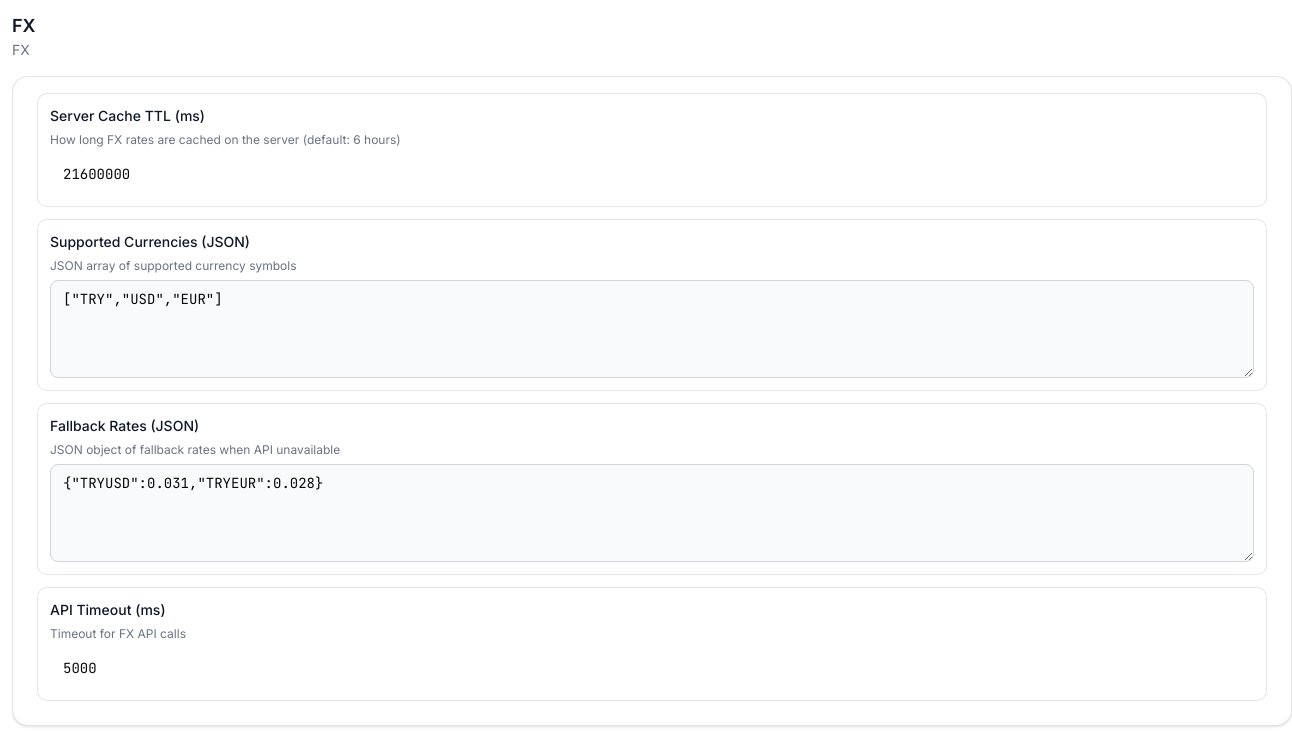
Test case: GenericSettingsPanel › JSON Validation › clears validation error on reset
Make invalid
Replace the text in the text box below "JSON array of supported currency symbols" with "[broken" at [652, 329], box [50,280,1254,378]
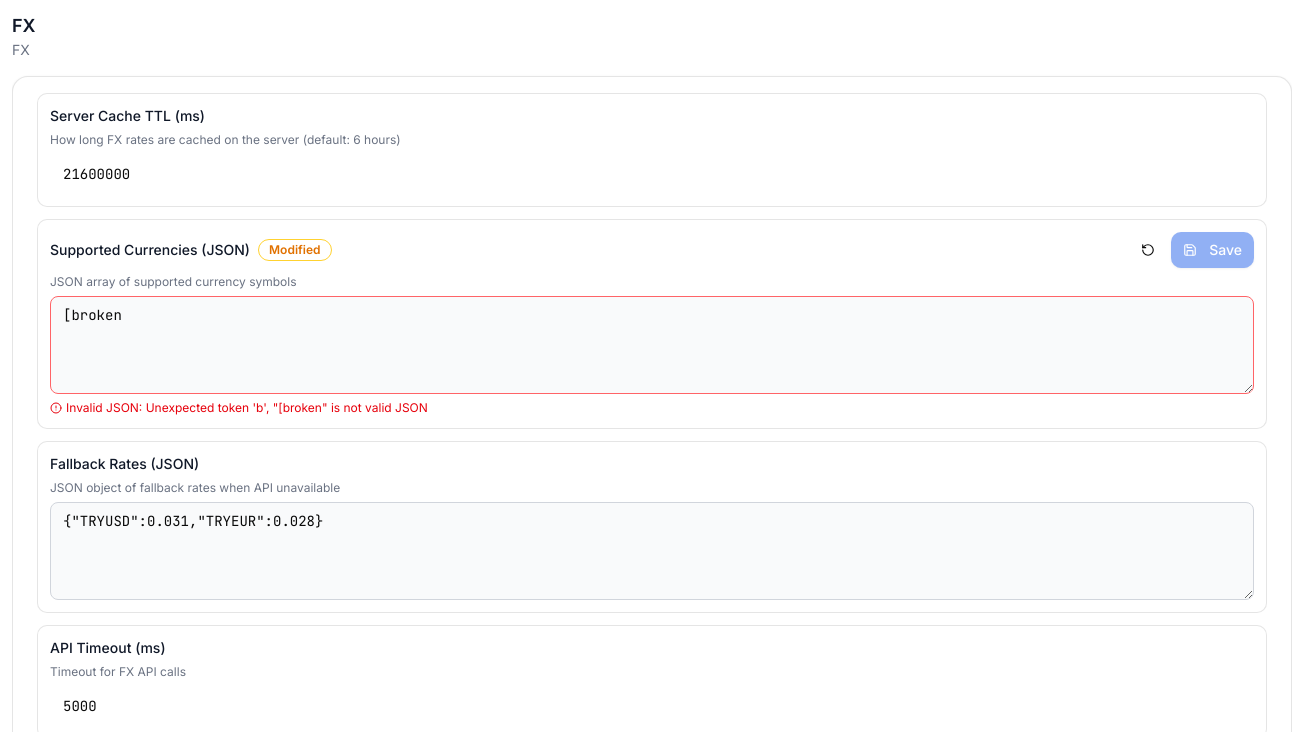
Expected: the text "Invalid JSON" is shown, [66,400,428,415]
Expected: the 1st button is shown
Click the 1st button.
click(1148, 250)  # box [1129,232,1167,268]
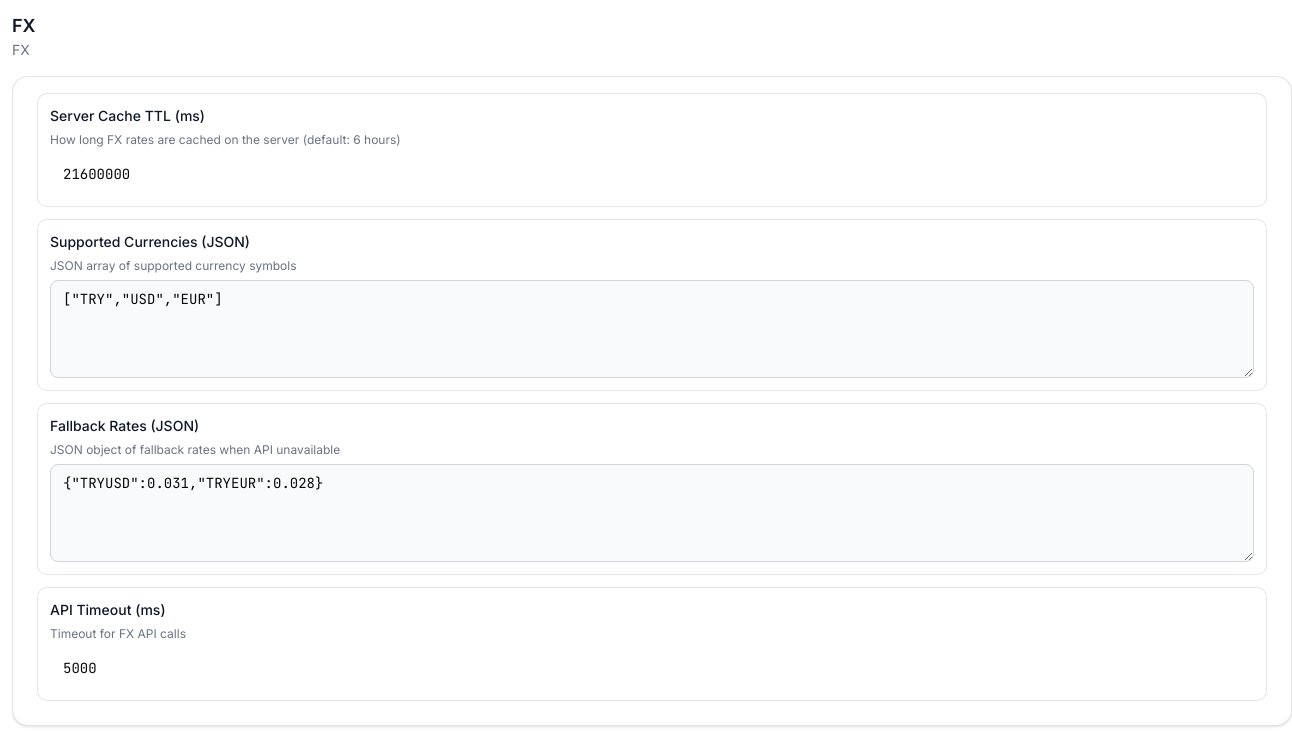
Expected: the text "Invalid JSON" is gone
